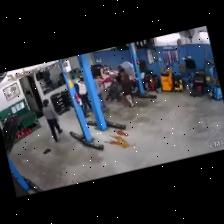person: (42, 100, 62, 141), (119, 69, 133, 107)
